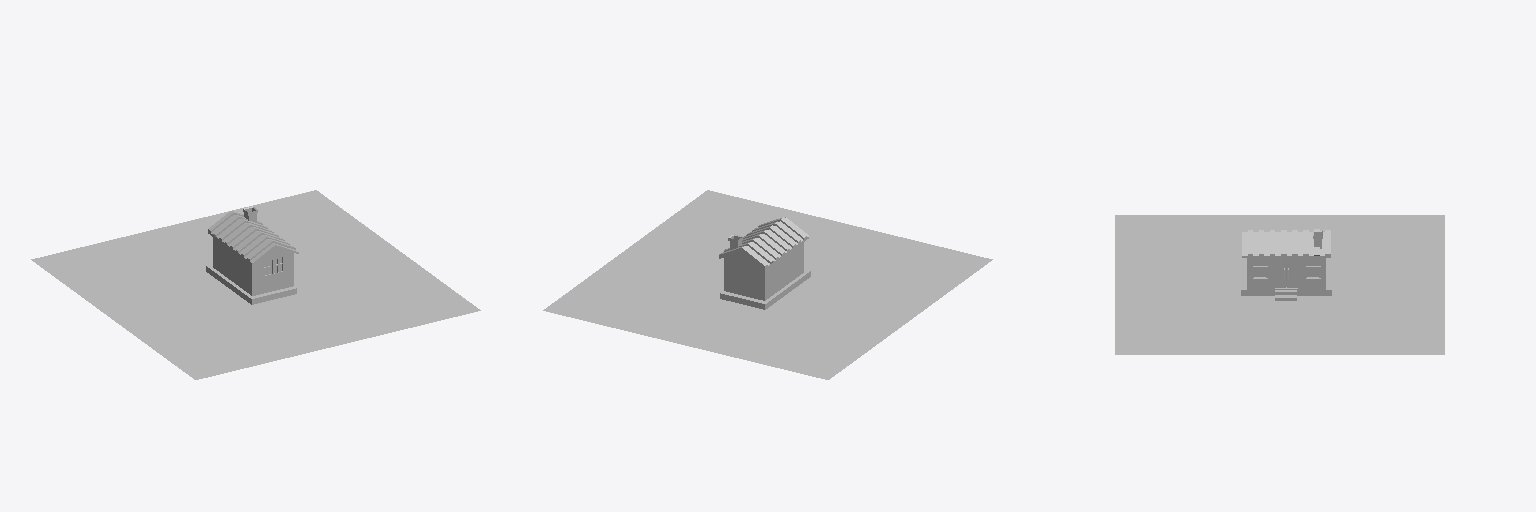
Rendered from houseobj.obj.
3 views of the same model, side by side, from view 1: azimuth 30°, elevation 25°; view 2: azimuth 150°, elevation 25°; view 3: azimuth 270°, elevation 25° (orthographic).
Parts seen in each view (by area): view 1: Plane, Cube.008, Cube.001, Cube.003; view 2: Plane, Cube.008, Cube.001, Cube.003; view 3: Plane, Cube.001, Cube.008, Cube.003, Cube.000_Cube.016.
Boxes of the visible parts, x1=… form: Plane: x1=31, y1=190, x2=480, y2=379; Cube.008: x1=213, y1=237, x2=293, y2=295; Cube.001: x1=208, y1=211, x2=298, y2=265; Cube.003: x1=206, y1=265, x2=296, y2=304; Plane: x1=543, y1=190, x2=992, y2=379; Cube.008: x1=724, y1=242, x2=803, y2=300; Cube.001: x1=719, y1=217, x2=808, y2=269; Cube.003: x1=720, y1=270, x2=810, y2=309; Plane: x1=1115, y1=215, x2=1444, y2=354; Cube.001: x1=1242, y1=229, x2=1330, y2=257; Cube.008: x1=1247, y1=258, x2=1325, y2=289; Cube.003: x1=1241, y1=268, x2=1331, y2=295; Cube.000_Cube.016: x1=1275, y1=258, x2=1297, y2=287.
Size of the model in its own units: 37.3 by 7.34 by 37.3.